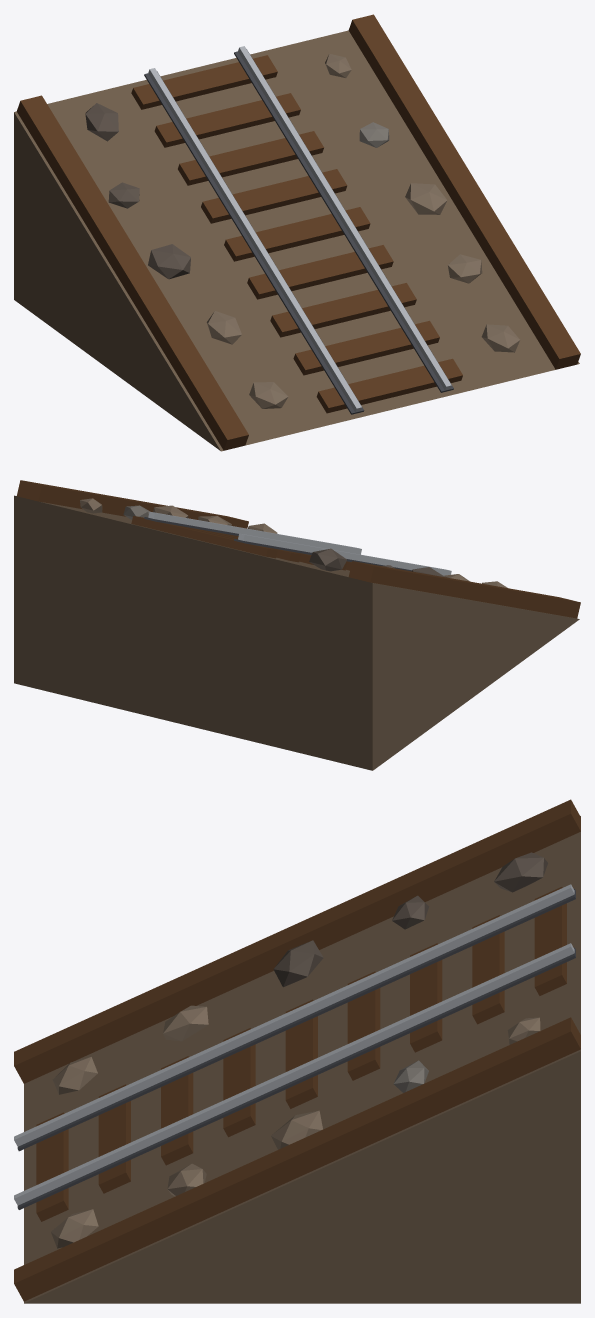
Rendered from mine_floor_rails_slope.glb.
The picture shows the model from 3 angles, top to bottom: view 1: azimuth 30°, elevation 25°; view 2: azimuth 150°, elevation 25°; view 3: azimuth 270°, elevation 25°; orthographic projection. The views are drawn at different scales.
Visible parts, largest first — view 1: mine_floor_rails_slope; view 2: mine_floor_rails_slope; view 3: mine_floor_rails_slope.
Boxes of the visible parts, box(x1,y1,x2,y2) form: mine_floor_rails_slope: box(14, 14, 580, 451); mine_floor_rails_slope: box(14, 480, 580, 770); mine_floor_rails_slope: box(14, 799, 580, 1303).
Size of the model in its own units: 4 by 2.14 by 4.07.
